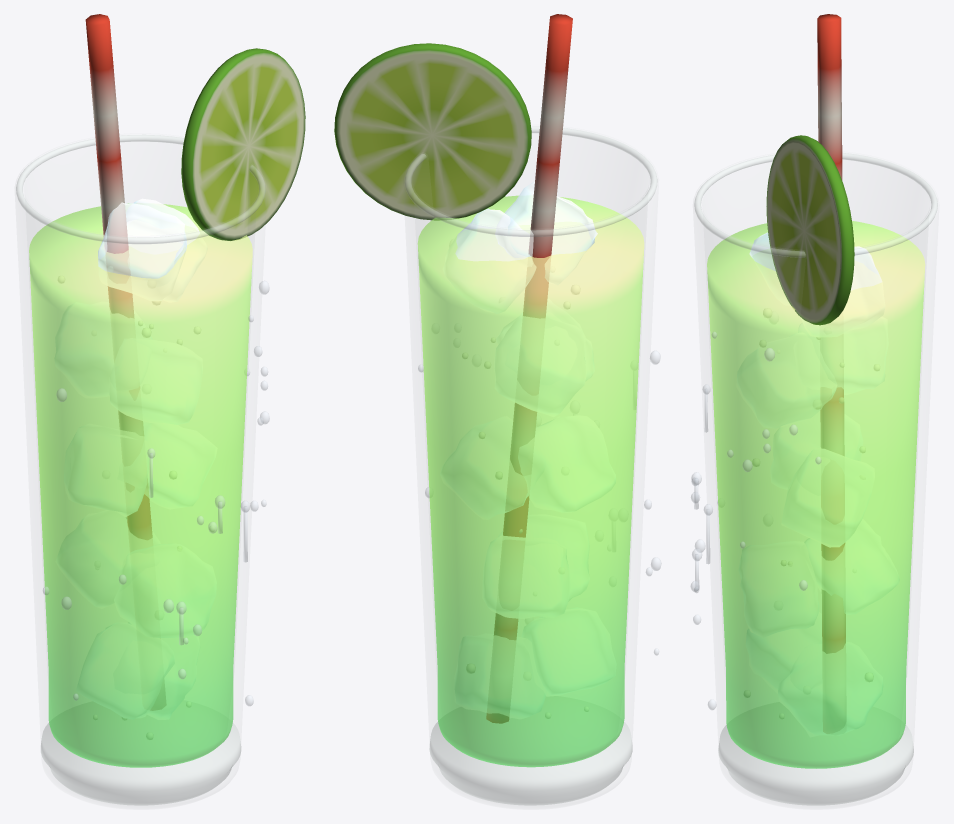
The model's file is beb-soda.glb.
3 views of the same model, side by side, from view 1: azimuth 30°, elevation 25°; view 2: azimuth 150°, elevation 25°; view 3: azimuth 270°, elevation 25° (orthographic). The views are drawn at different scales.
Parts seen in each view (by area): view 1: soda_liquido, soda_gelo, soda_limao, soda_vidrog, soda_canudo, soda_gotas, soda_vidro; view 2: soda_liquido, soda_gelo, soda_limao, soda_vidrog, soda_canudo, soda_vidro; view 3: soda_liquido, soda_gelo, soda_limao, soda_vidrog, soda_canudo, soda_vidro, soda_gotas.
Part boxes in pixels (left/top/right/bottom): soda_liquido: left=29, top=203, right=252, bottom=767; soda_gelo: left=55, top=198, right=217, bottom=719; soda_limao: left=181, top=48, right=305, bottom=240; soda_vidrog: left=16, top=135, right=265, bottom=805; soda_canudo: left=85, top=14, right=152, bottom=540; soda_gotas: left=43, top=281, right=269, bottom=705; soda_vidro: left=25, top=196, right=256, bottom=678; soda_liquido: left=417, top=195, right=644, bottom=767; soda_gelo: left=440, top=182, right=616, bottom=718; soda_limao: left=334, top=43, right=531, bottom=220; soda_vidrog: left=405, top=126, right=657, bottom=805; soda_canudo: left=486, top=14, right=572, bottom=723; soda_vidro: left=413, top=187, right=648, bottom=678; soda_liquido: left=707, top=221, right=925, bottom=768; soda_gelo: left=736, top=232, right=899, bottom=736; soda_limao: left=766, top=135, right=854, bottom=325; soda_vidrog: left=694, top=153, right=937, bottom=805; soda_canudo: left=817, top=14, right=845, bottom=653; soda_vidro: left=703, top=210, right=929, bottom=681; soda_gotas: left=690, top=332, right=821, bottom=709.
Bounding box in the file's own units: 0.0866 × 0.2183 × 0.0666.
